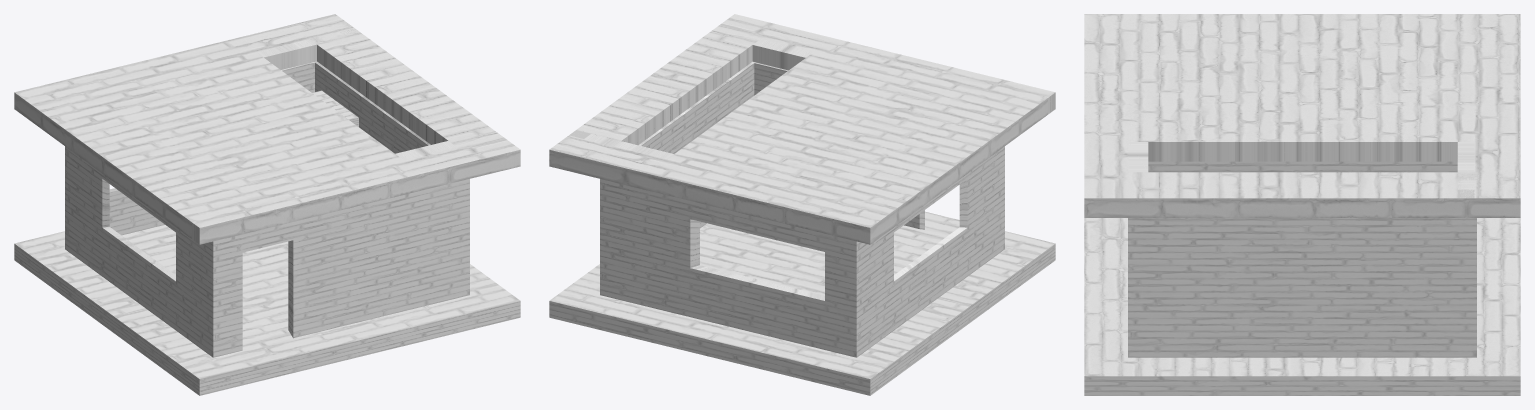
Rendered from Casa base.fbx.
The picture shows the model from 3 angles, left to right: view 1: azimuth 30°, elevation 25°; view 2: azimuth 150°, elevation 25°; view 3: azimuth 270°, elevation 25°; orthographic projection. The views are drawn at different scales.
Parts seen in each view (by area): view 1: Techo, Paredes, Suelo; view 2: Techo, Paredes, Suelo; view 3: Techo, Paredes, Suelo.
Part boxes in pixels (<box>): Techo: <box>14,14,520,244</box>; Paredes: <box>65,61,469,357</box>; Suelo: <box>14,225,520,395</box>; Techo: <box>549,14,1055,244</box>; Paredes: <box>600,61,1004,357</box>; Suelo: <box>549,211,1055,395</box>; Techo: <box>1084,14,1520,217</box>; Paredes: <box>1128,161,1476,357</box>; Suelo: <box>1084,218,1520,395</box>.
Bounding box in the file's own units: 1000 × 500 × 1000.
